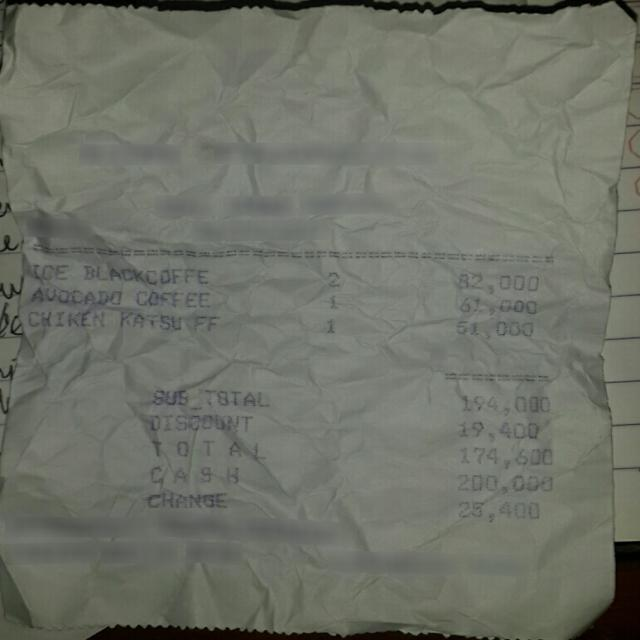text: (80, 264, 209, 284), (148, 438, 266, 458), (141, 411, 251, 432), (459, 445, 552, 468), (456, 474, 550, 494), (458, 498, 536, 522), (459, 394, 552, 414), (147, 464, 239, 484), (30, 285, 122, 304), (457, 420, 538, 441), (27, 309, 105, 328), (454, 319, 532, 338), (143, 490, 225, 508), (457, 274, 538, 292), (455, 297, 536, 314), (202, 388, 267, 407), (133, 290, 210, 306), (116, 312, 179, 329), (150, 388, 188, 406), (28, 263, 66, 279), (0, 306, 22, 329), (192, 314, 217, 330), (325, 270, 341, 288), (326, 294, 340, 311), (323, 317, 336, 334)
